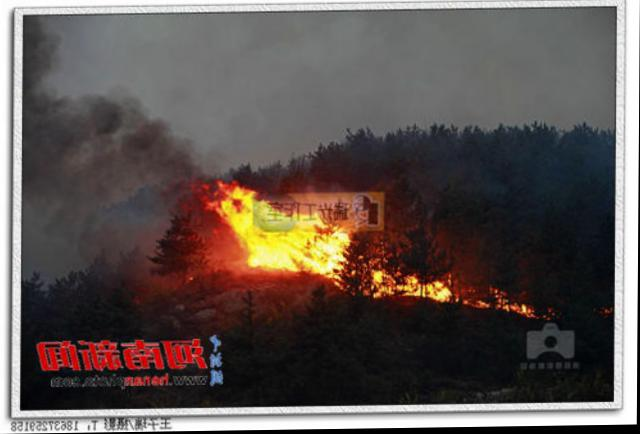fire: (202, 175, 553, 331)
